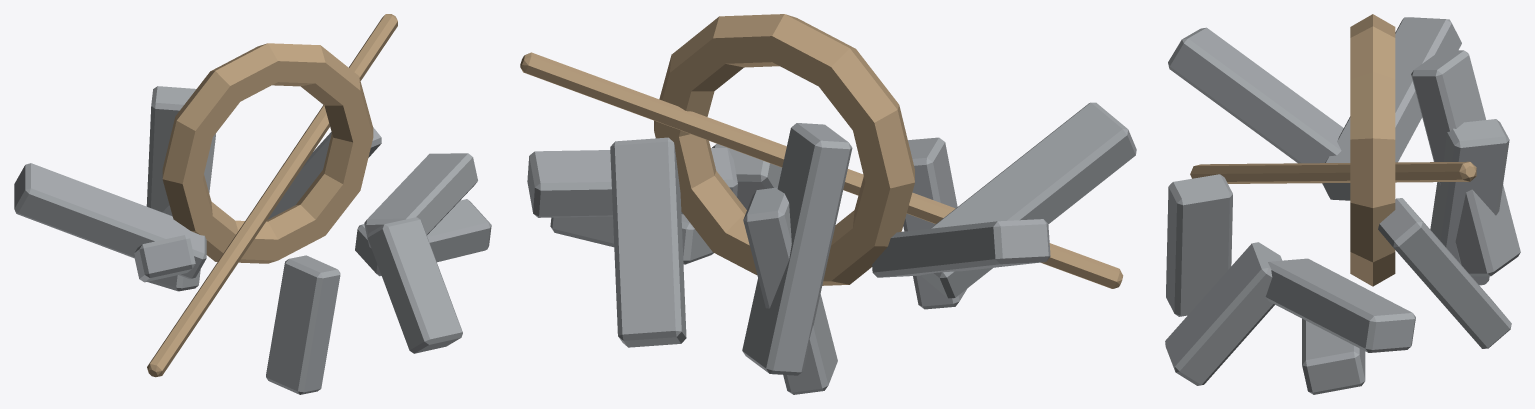
File: harthmere_mudden_scrap.glb
3 views of the same model, side by side, from view 1: azimuth 30°, elevation 25°; view 2: azimuth 150°, elevation 25°; view 3: azimuth 270°, elevation 25° (orthographic). The views are drawn at different scales.
Bounding box in the file's own units: 1.76 × 1.05 × 1.09.
